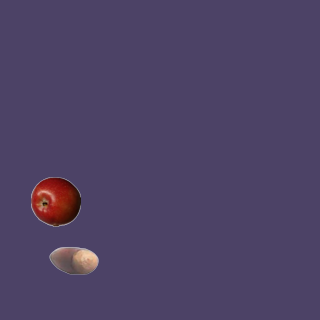Apple Braeburn: (30, 176, 80, 226)
Hazelnut: (48, 235, 98, 285)
